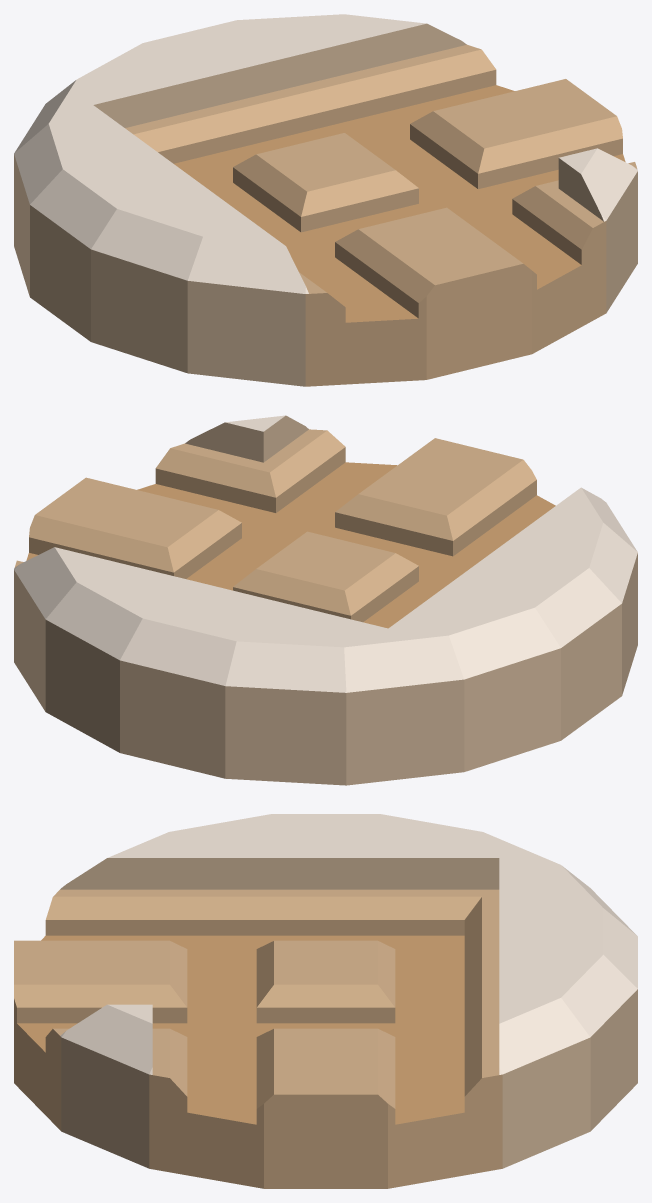
The model's file is Rotate_90_2.glb.
3 views of the same model, one above another, from view 1: azimuth 30°, elevation 25°; view 2: azimuth 150°, elevation 25°; view 3: azimuth 270°, elevation 25° (orthographic).
Parts seen in each view (by area): view 1: mergedBlocks(Clone); view 2: mergedBlocks(Clone); view 3: mergedBlocks(Clone).
Part boxes in pixels (<box>): mergedBlocks(Clone): <box>14,14,637,386</box>; mergedBlocks(Clone): <box>14,415,637,785</box>; mergedBlocks(Clone): <box>14,814,637,1188</box>.
Size of the model in its own units: 2.7 by 0.6 by 2.7.
